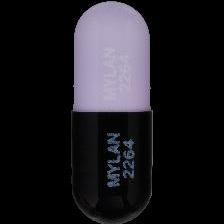51079-937: (0, 0, 224, 224)
